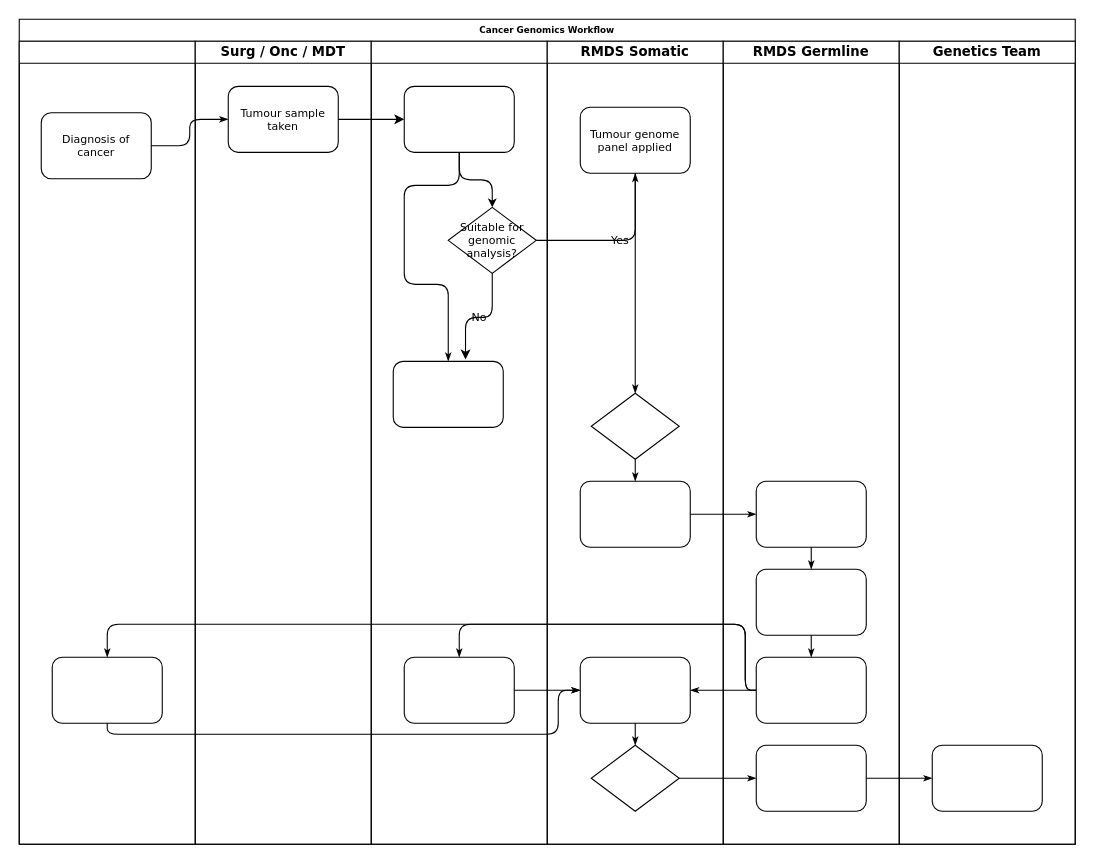
Image size: 1095x864. Some labels were removed from this diagram. Here are the shapes that lost their labels. From the top down, the box of each, then its label:
(403, 85, 514, 152): Histopathology; sections for genomic analysis
(392, 360, 503, 427): Immunohistochemistry, additional analyses
(18, 40, 195, 844): Patient
(370, 40, 547, 844): Pathology Lab
